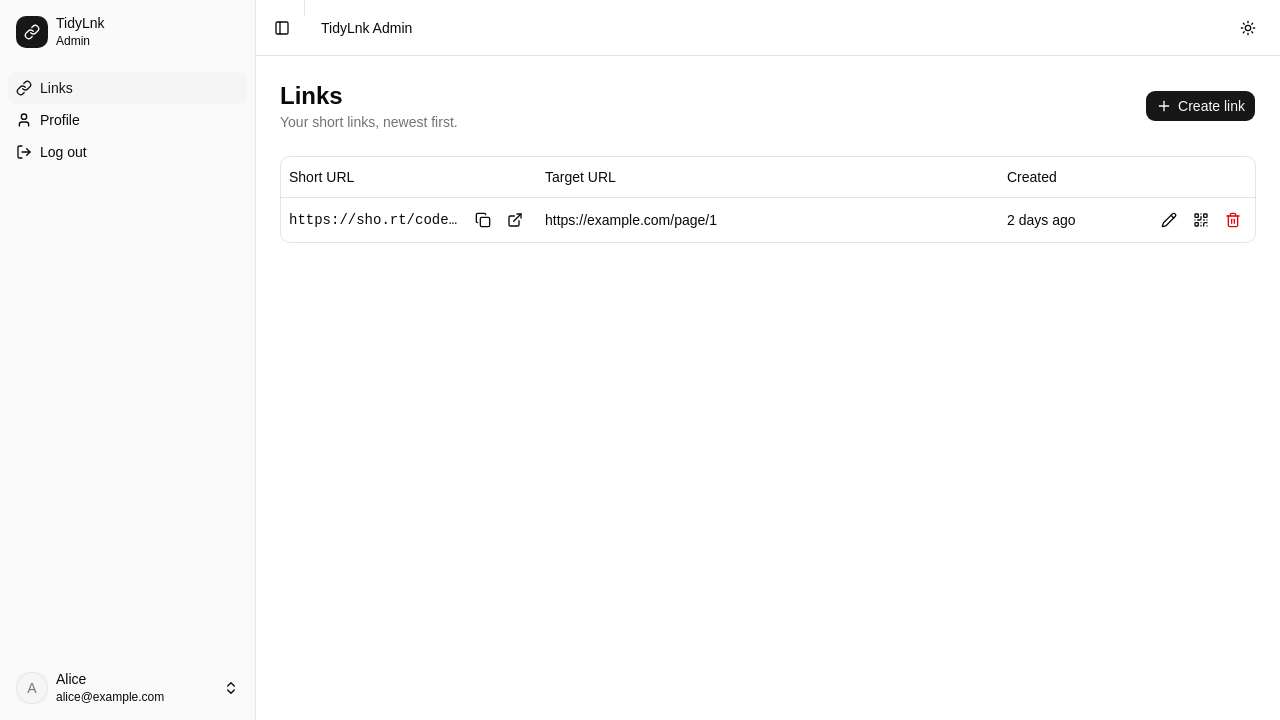
Test case: Links page › creates a link and refreshes the list
Click the button "Create link" at coordinates (1201, 106), box [1145,90,1256,122]
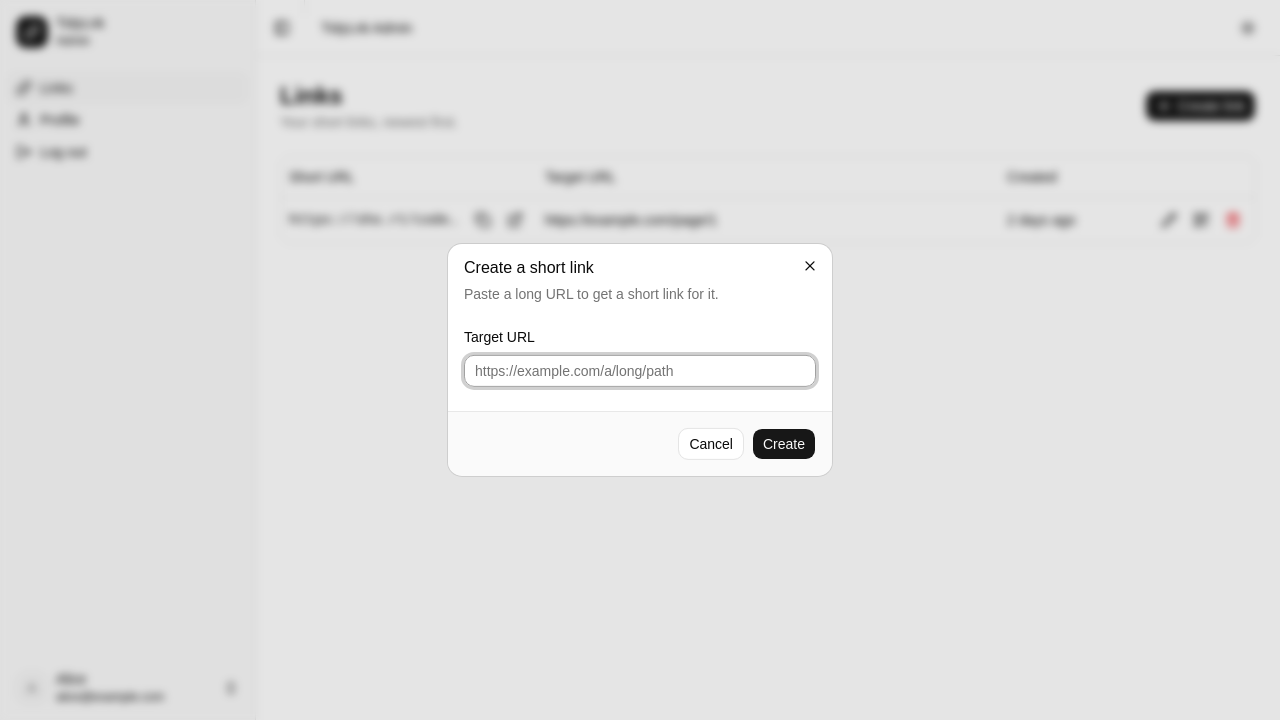
Type "  https://example.com/new " into the field labelled "Target URL" at coordinates (640, 371), box [464,355,816,387]
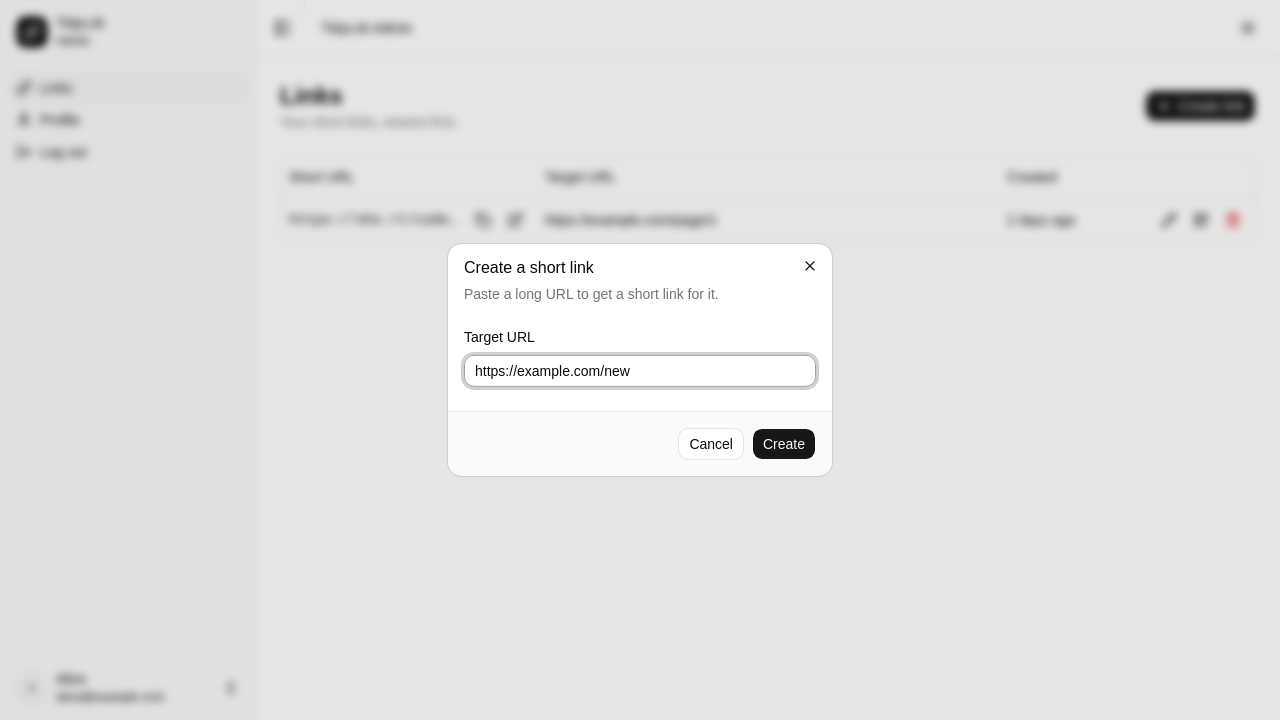
Click the button "Create" at coordinates (784, 444), box [752,428,816,460]
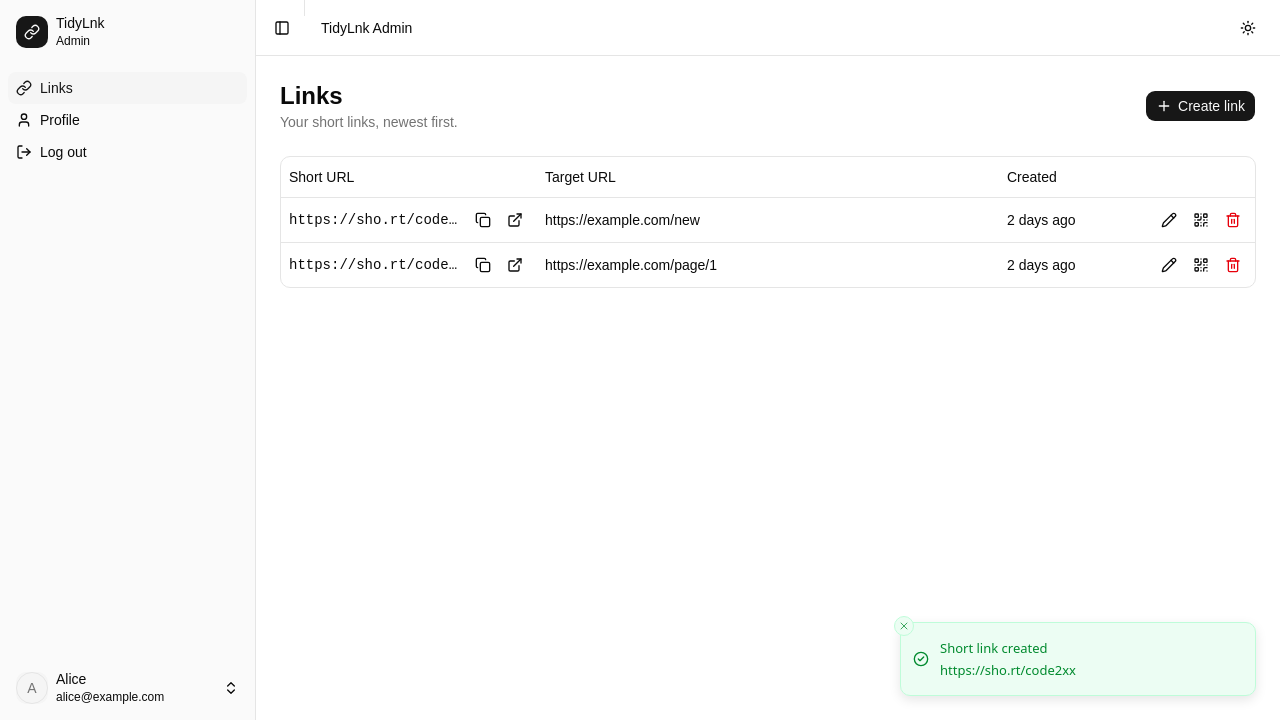
Expected: the dialog is gone
Expected: the text "https://sho.rt/code2xx" next to "https://example.com/new" is shown, [289,212,474,228]
